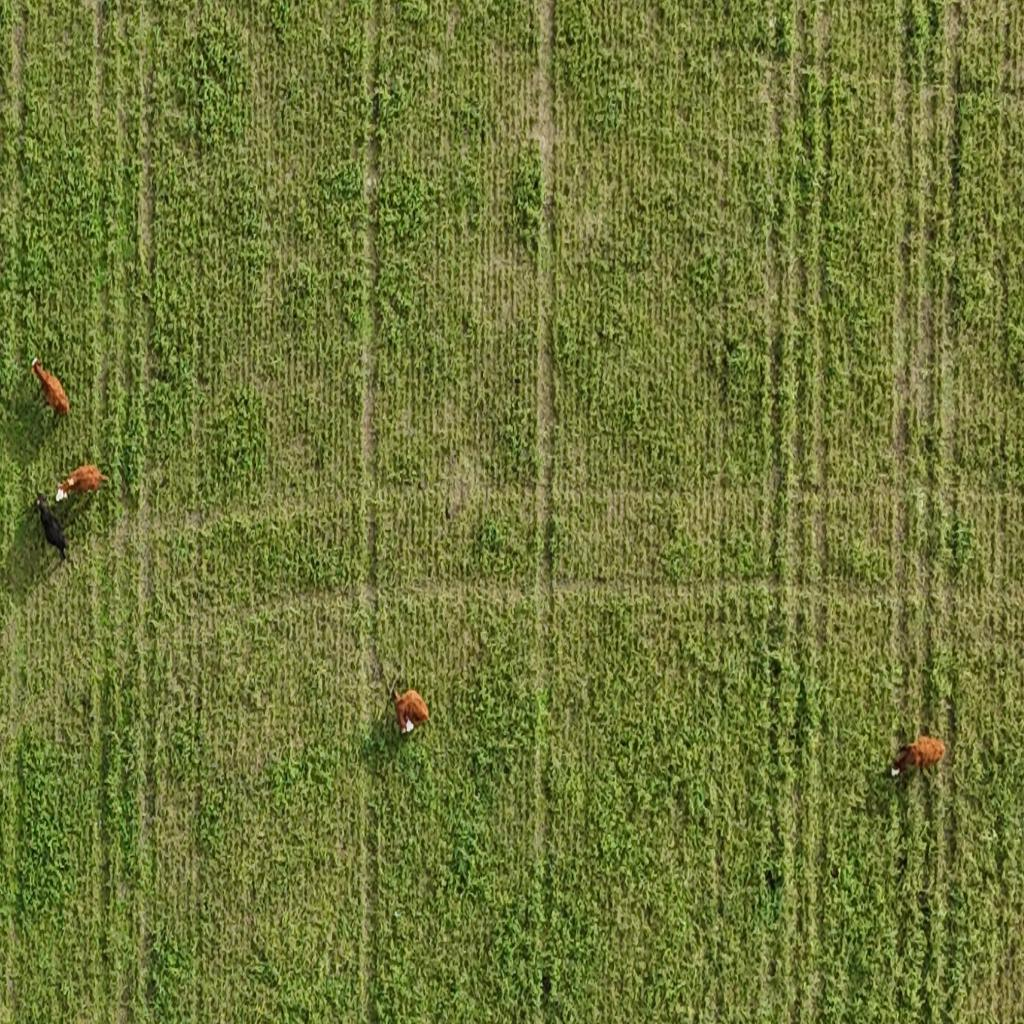cow: (384, 672, 431, 741), (890, 733, 947, 785), (28, 354, 71, 420), (34, 491, 70, 565), (54, 461, 108, 503)
